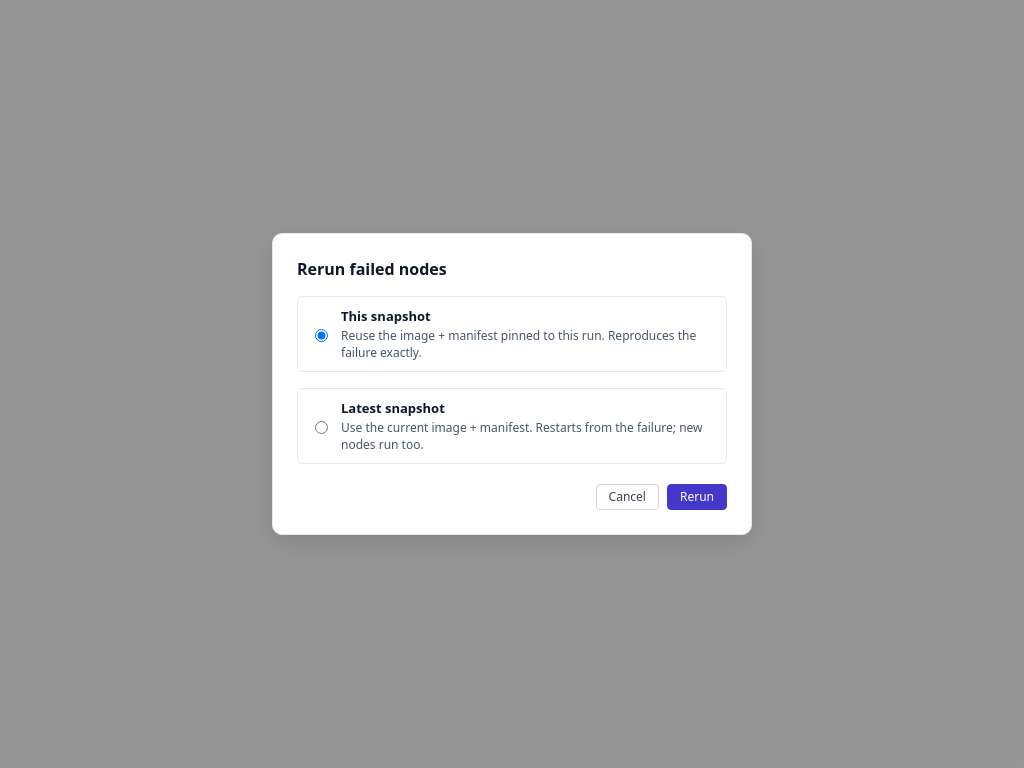
Test: RerunFailedModal — This snapshot › says the request failed when the network does
The width and height of the screenshot is (1024, 768).
Click the button "Rerun" at (697, 497), box [667,484,727,510]
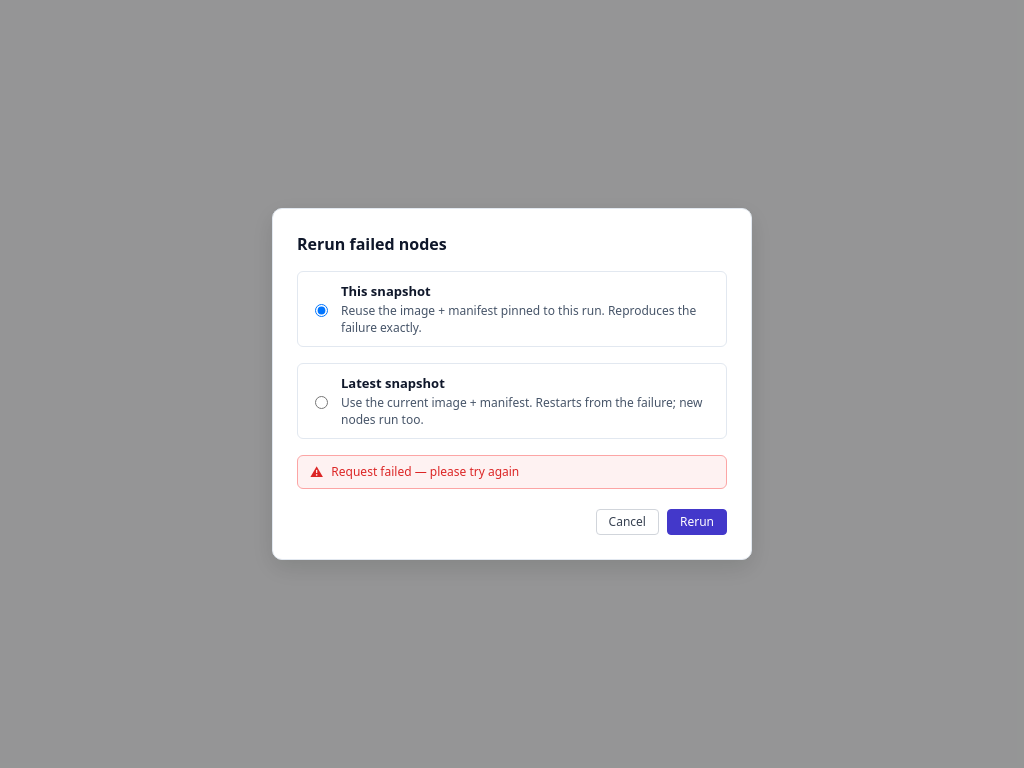
Result: the text "Request failed — please try again" is shown at [331,463,519,480]
